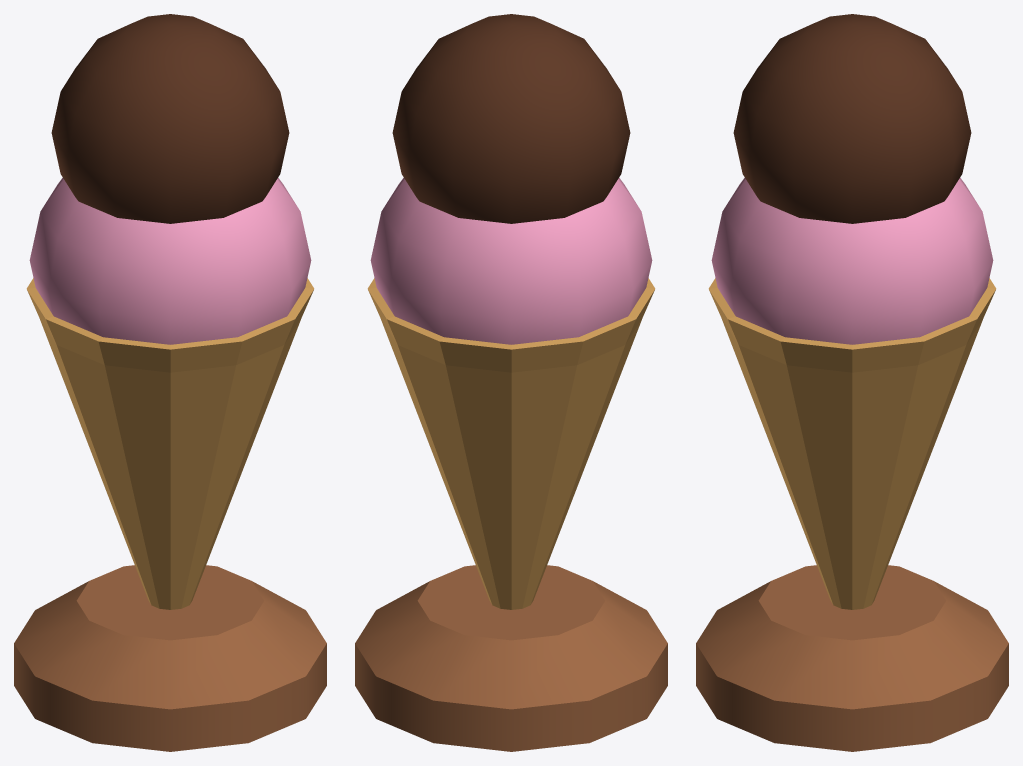
Rendered from sorvete_casquinha.glb.
3 views of the same model, side by side, from view 1: azimuth 30°, elevation 25°; view 2: azimuth 150°, elevation 25°; view 3: azimuth 270°, elevation 25° (orthographic).
Visible parts, largest first — view 1: sorvete_casquinha; view 2: sorvete_casquinha; view 3: sorvete_casquinha.
Boxes of the visible parts, <box> form: sorvete_casquinha: <box>14,14,326,751</box>; sorvete_casquinha: <box>355,14,667,751</box>; sorvete_casquinha: <box>696,14,1008,751</box>.
Bounding box in the file's own units: 0.1 × 0.233 × 0.1.
